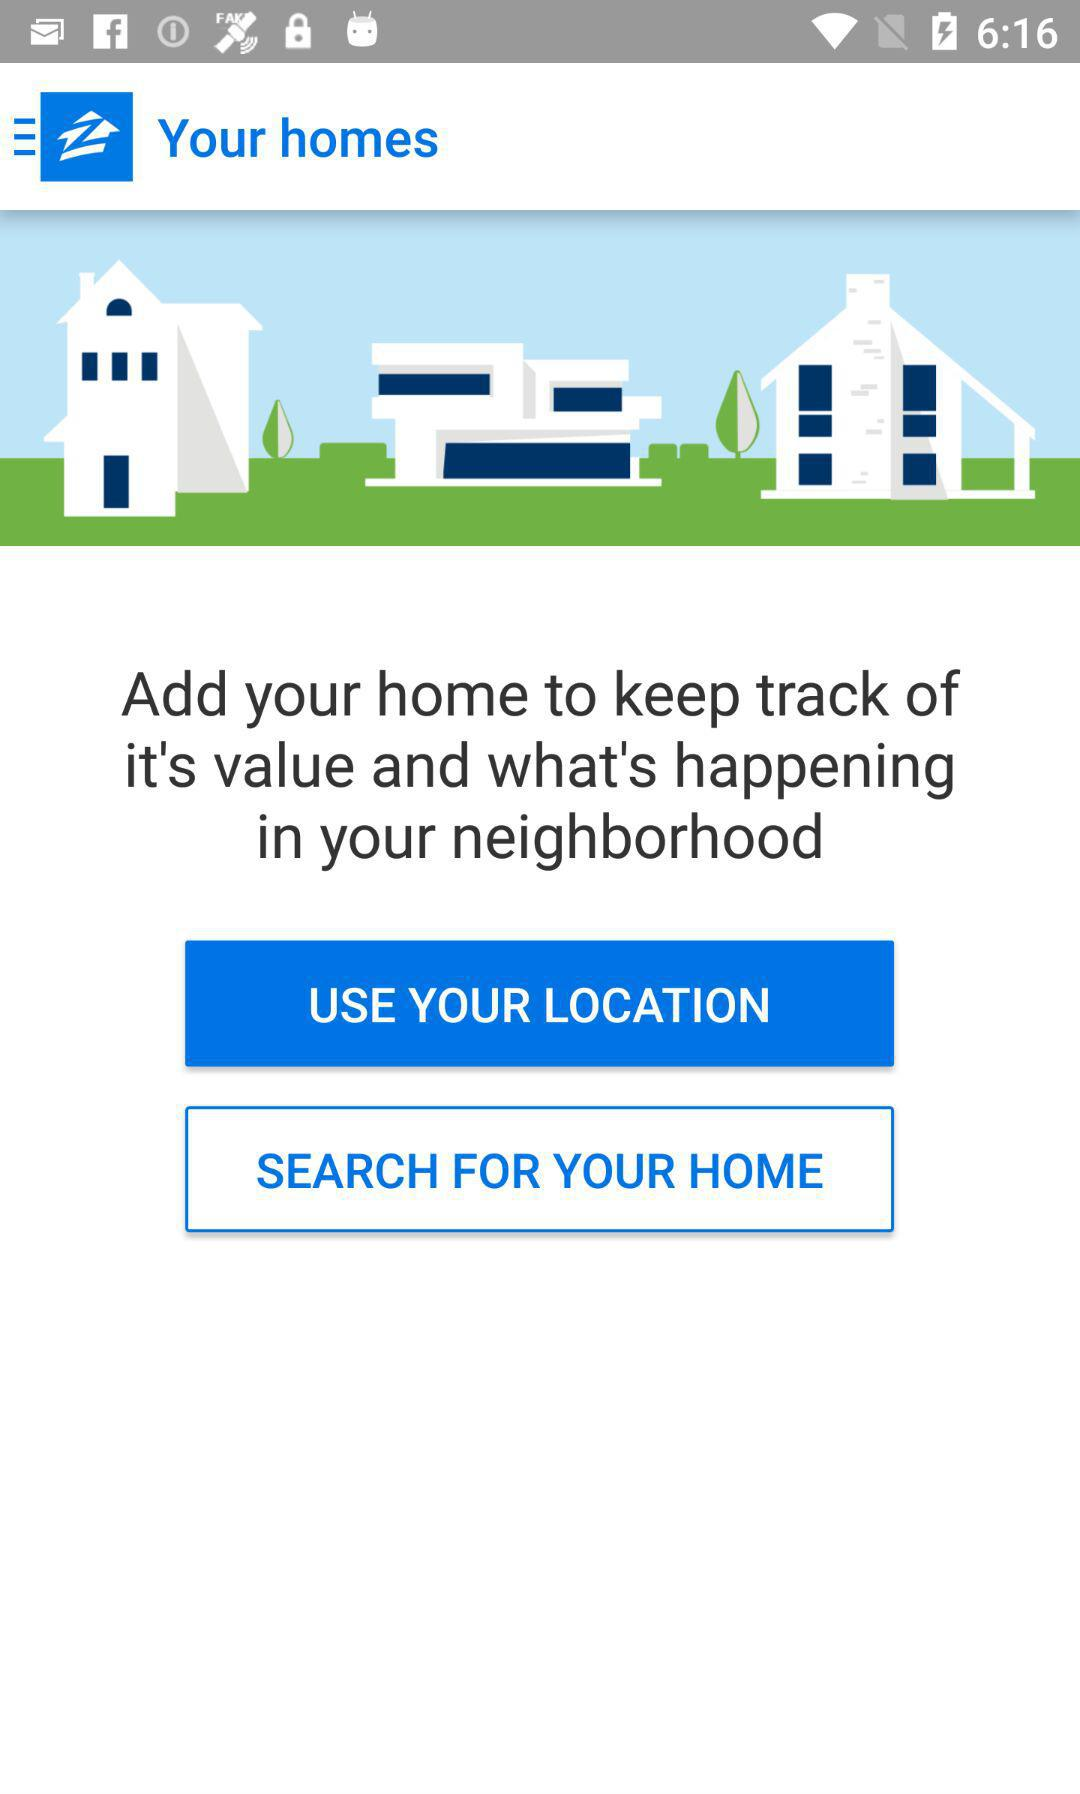Icon: (15, 118, 37, 158)
Image: (1, 211, 1080, 547), (41, 94, 135, 185)
Text: (122, 668, 962, 873), (158, 117, 439, 159)
TextButton: (184, 1106, 896, 1234), (184, 941, 896, 1067)
Toolbar: (1, 64, 1080, 210)
UpperTaskBar: (1, 1, 1080, 64)
